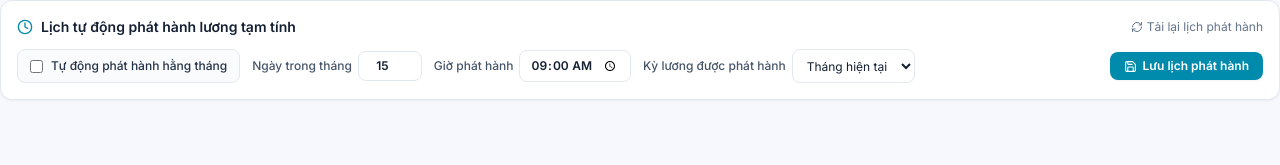
Scenario: payroll publication schedule settings › saves the selected day, time and salary month with the loaded version
Click the checkbox labelled "Tự động phát hành hằng tháng": x=36, y=66 [30,60,43,72]
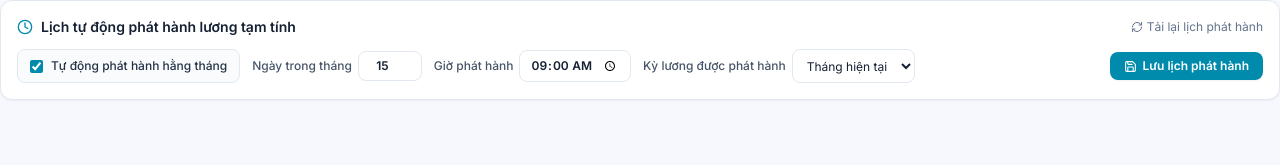
Replace the text in the number field labelled "Ngày trong tháng" with "20": x=390, y=66 [358,51,422,81]
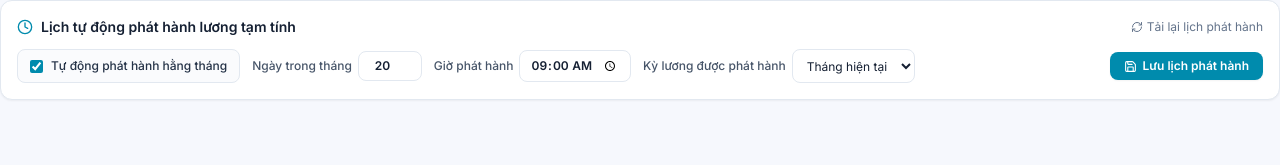
Replace the text in the time field labelled "Giờ phát hành" with "08:45": x=575, y=66 [520,50,631,82]
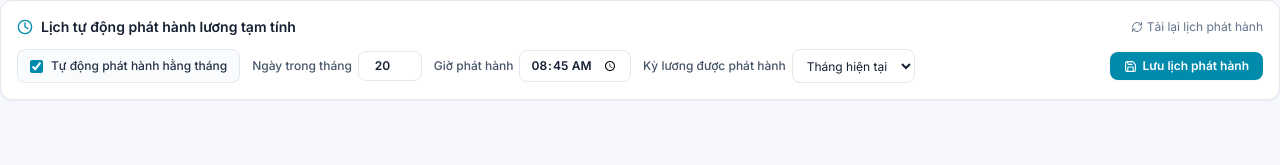
Select "Tháng trước" in the dropdown labelled "Kỳ lương được phát hành": x=853, y=66 [792,49,915,83]
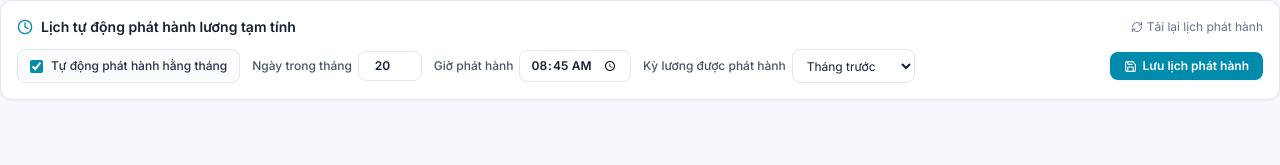
Click the button "Lưu lịch phát hành": x=1186, y=66 [1110,52,1263,80]
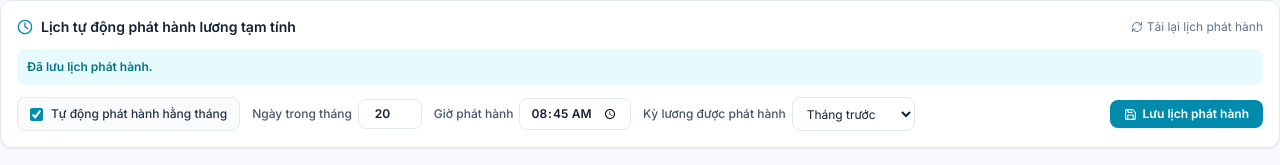
Now the text "Đã lưu lịch phát hành." is shown, box [17,49,1263,85]
